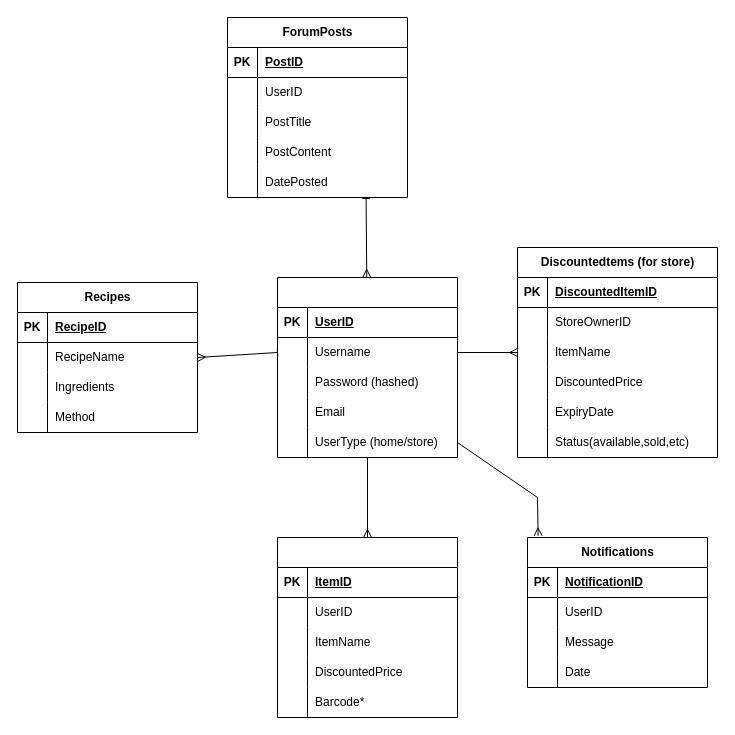
Some shapes in this 735 by 735 pixel diagram are drawn without their labels. The shapes that lost their labels are listed below. From the top down, each one's box as (x1, y1, x2, y2) in pixels, then its label:
(276, 276, 458, 458): Users
(276, 536, 458, 718): FoodItems (for homeowner)
